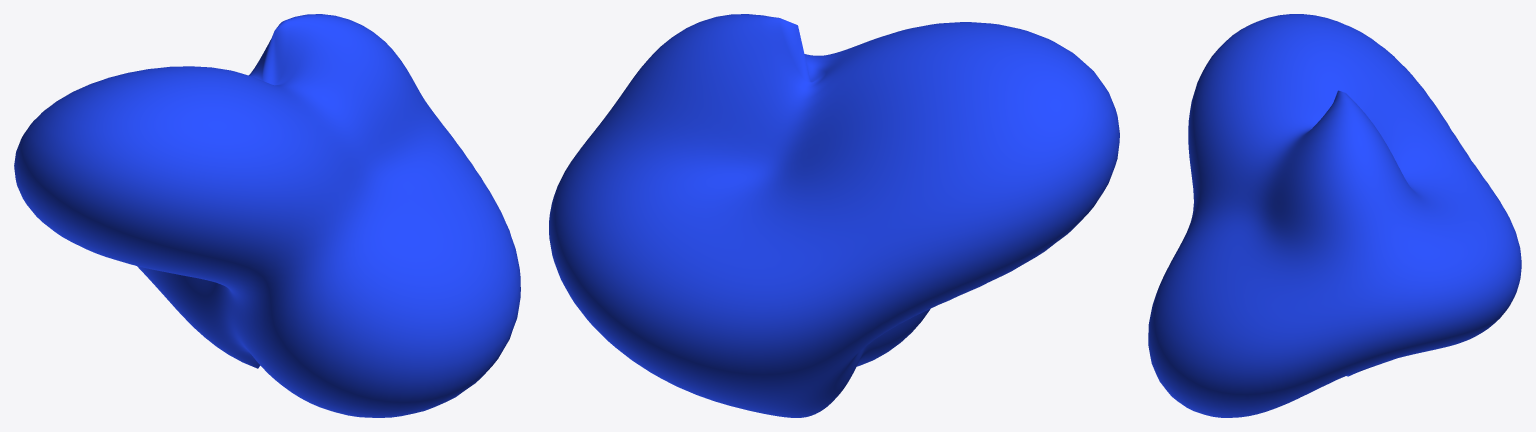
The model's file is cobalt-form.glb.
3 views of the same model, side by side, from view 1: azimuth 30°, elevation 25°; view 2: azimuth 150°, elevation 25°; view 3: azimuth 270°, elevation 25° (orthographic). The views are drawn at different scales.
Visible parts, largest first — view 1: CobaltForm; view 2: CobaltForm; view 3: CobaltForm.
Part boxes in pixels (left/top/right/bottom): CobaltForm: left=14, top=14, right=520, bottom=417; CobaltForm: left=549, top=14, right=1119, bottom=417; CobaltForm: left=1148, top=14, right=1521, bottom=417.
Bounding box in the file's own units: 2.76 × 2.02 × 2.3.
